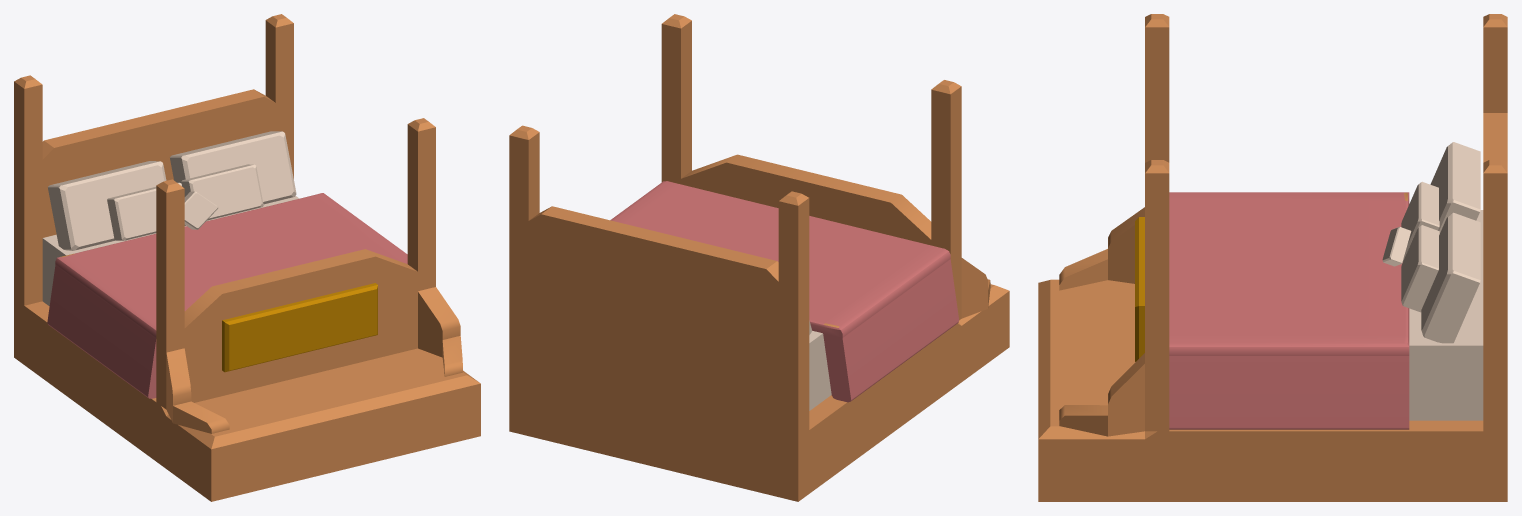
File: STM_Bed.fbx
The picture shows the model from 3 angles, left to right: view 1: azimuth 30°, elevation 25°; view 2: azimuth 150°, elevation 25°; view 3: azimuth 270°, elevation 25°; orthographic projection. The views are drawn at different scales.
Visible parts, largest first — view 1: pCube34; view 2: pCube34; view 3: pCube34.
Boxes of the visible parts, bbox=[...] form: pCube34: bbox=[14, 14, 480, 501]; pCube34: bbox=[509, 14, 1009, 501]; pCube34: bbox=[1038, 14, 1507, 501].
Bounding box in the file's own units: 2.14 × 2 × 2.54.
